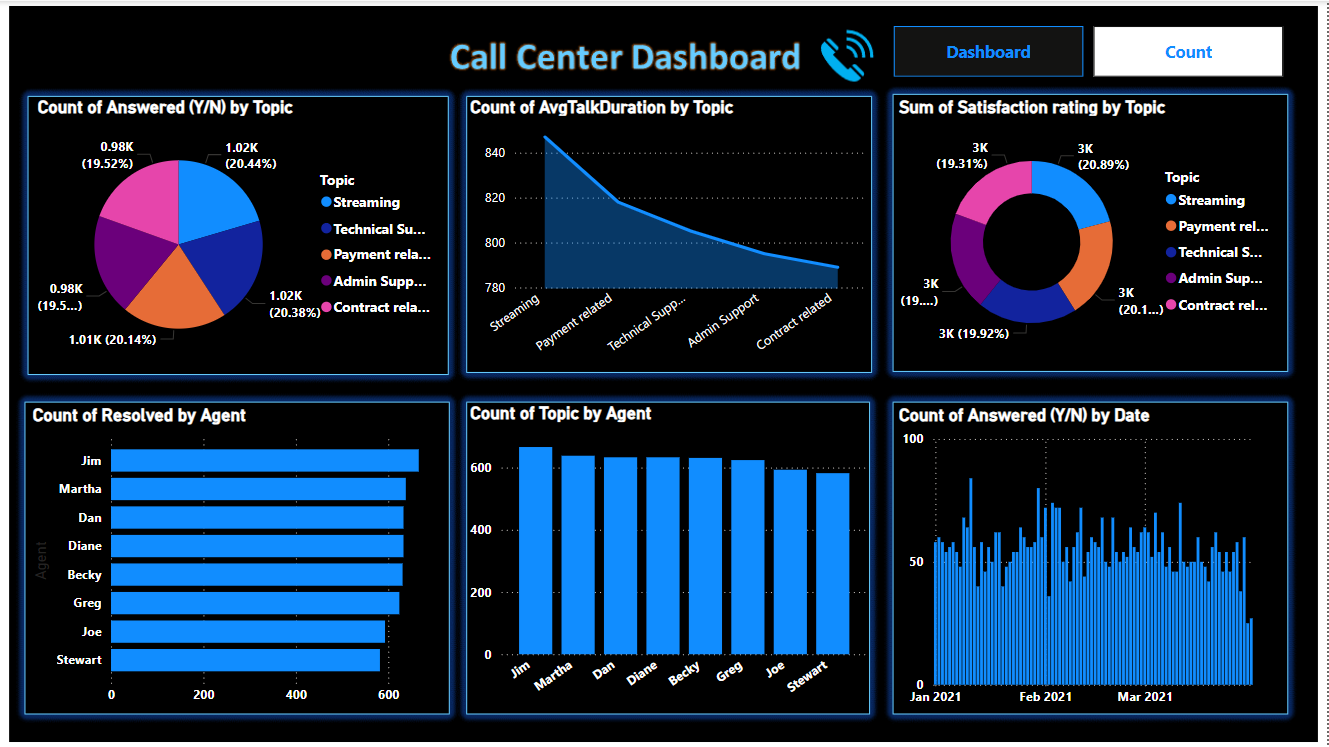

What the dashboard file says about the page in this screenshot:
{"tool":"powerbi","page":{"name":"Dashboard","canvas":[1280,720],"ordinal":0},"visuals":[{"type":"textbox","box":[9.6,0,227.8,74.1],"z":0},{"type":"image","box":[0,0,1280,720.2],"z":1000},{"type":"pieChart","fields":{"Category":["Sheet1.Topic"],"Y":["Sheet1.Answered (Y/N)"]},"box":[31.4,91.7,399.3,267.8],"z":2000},{"type":"lineChart","fields":{"Category":["Sheet1.Topic"],"Y":["Sheet1.AvgTalkDuration"]},"box":[448.8,91.7,393.3,263],"z":3000},{"type":"donutChart","fields":{"Y":["Sheet1.Satisfaction rating"],"Category":["Sheet1.Topic"]},"box":[862.6,91.7,377.6,263],"z":4000},{"type":"clusteredBarChart","fields":{"Category":["Sheet1.Agent"],"Y":["Sheet1.Resolved"]},"box":[26.5,389.7,409,298],"z":5000},{"type":"columnChart","fields":{"Category":["Sheet1.Agent"],"Y":["Sheet1.Topic"]},"box":[448.8,387.3,393.3,300.4],"z":6000},{"type":"columnChart","fields":{"Category":["Sheet1.Date"],"Y":["Sheet1.Answered (Y/N)"]},"box":[862.6,389.7,377.6,300.4],"z":7000},{"type":"pageNavigator","box":[862.6,24.1,377.6,49.5],"z":8000}]}

Visuals, with their boxes in screenshot pixels (x1, y1, x2, y2), scaled from the page's 1280x720 canvas onto the 1329x747 screenshot:
textbox: 10:0:246:77
image: 0:0:1328:746
pieChart - Sheet1.Topic x Sheet1.Answered (Y/N): 33:95:447:373
lineChart - Sheet1.Topic x Sheet1.AvgTalkDuration: 466:95:874:368
donutChart - Sheet1.Satisfaction rating x Sheet1.Topic: 896:95:1288:368
clusteredBarChart - Sheet1.Agent x Sheet1.Resolved: 28:404:452:713
columnChart - Sheet1.Agent x Sheet1.Topic: 466:402:874:713
columnChart - Sheet1.Date x Sheet1.Answered (Y/N): 896:404:1288:716
pageNavigator: 896:25:1288:76
